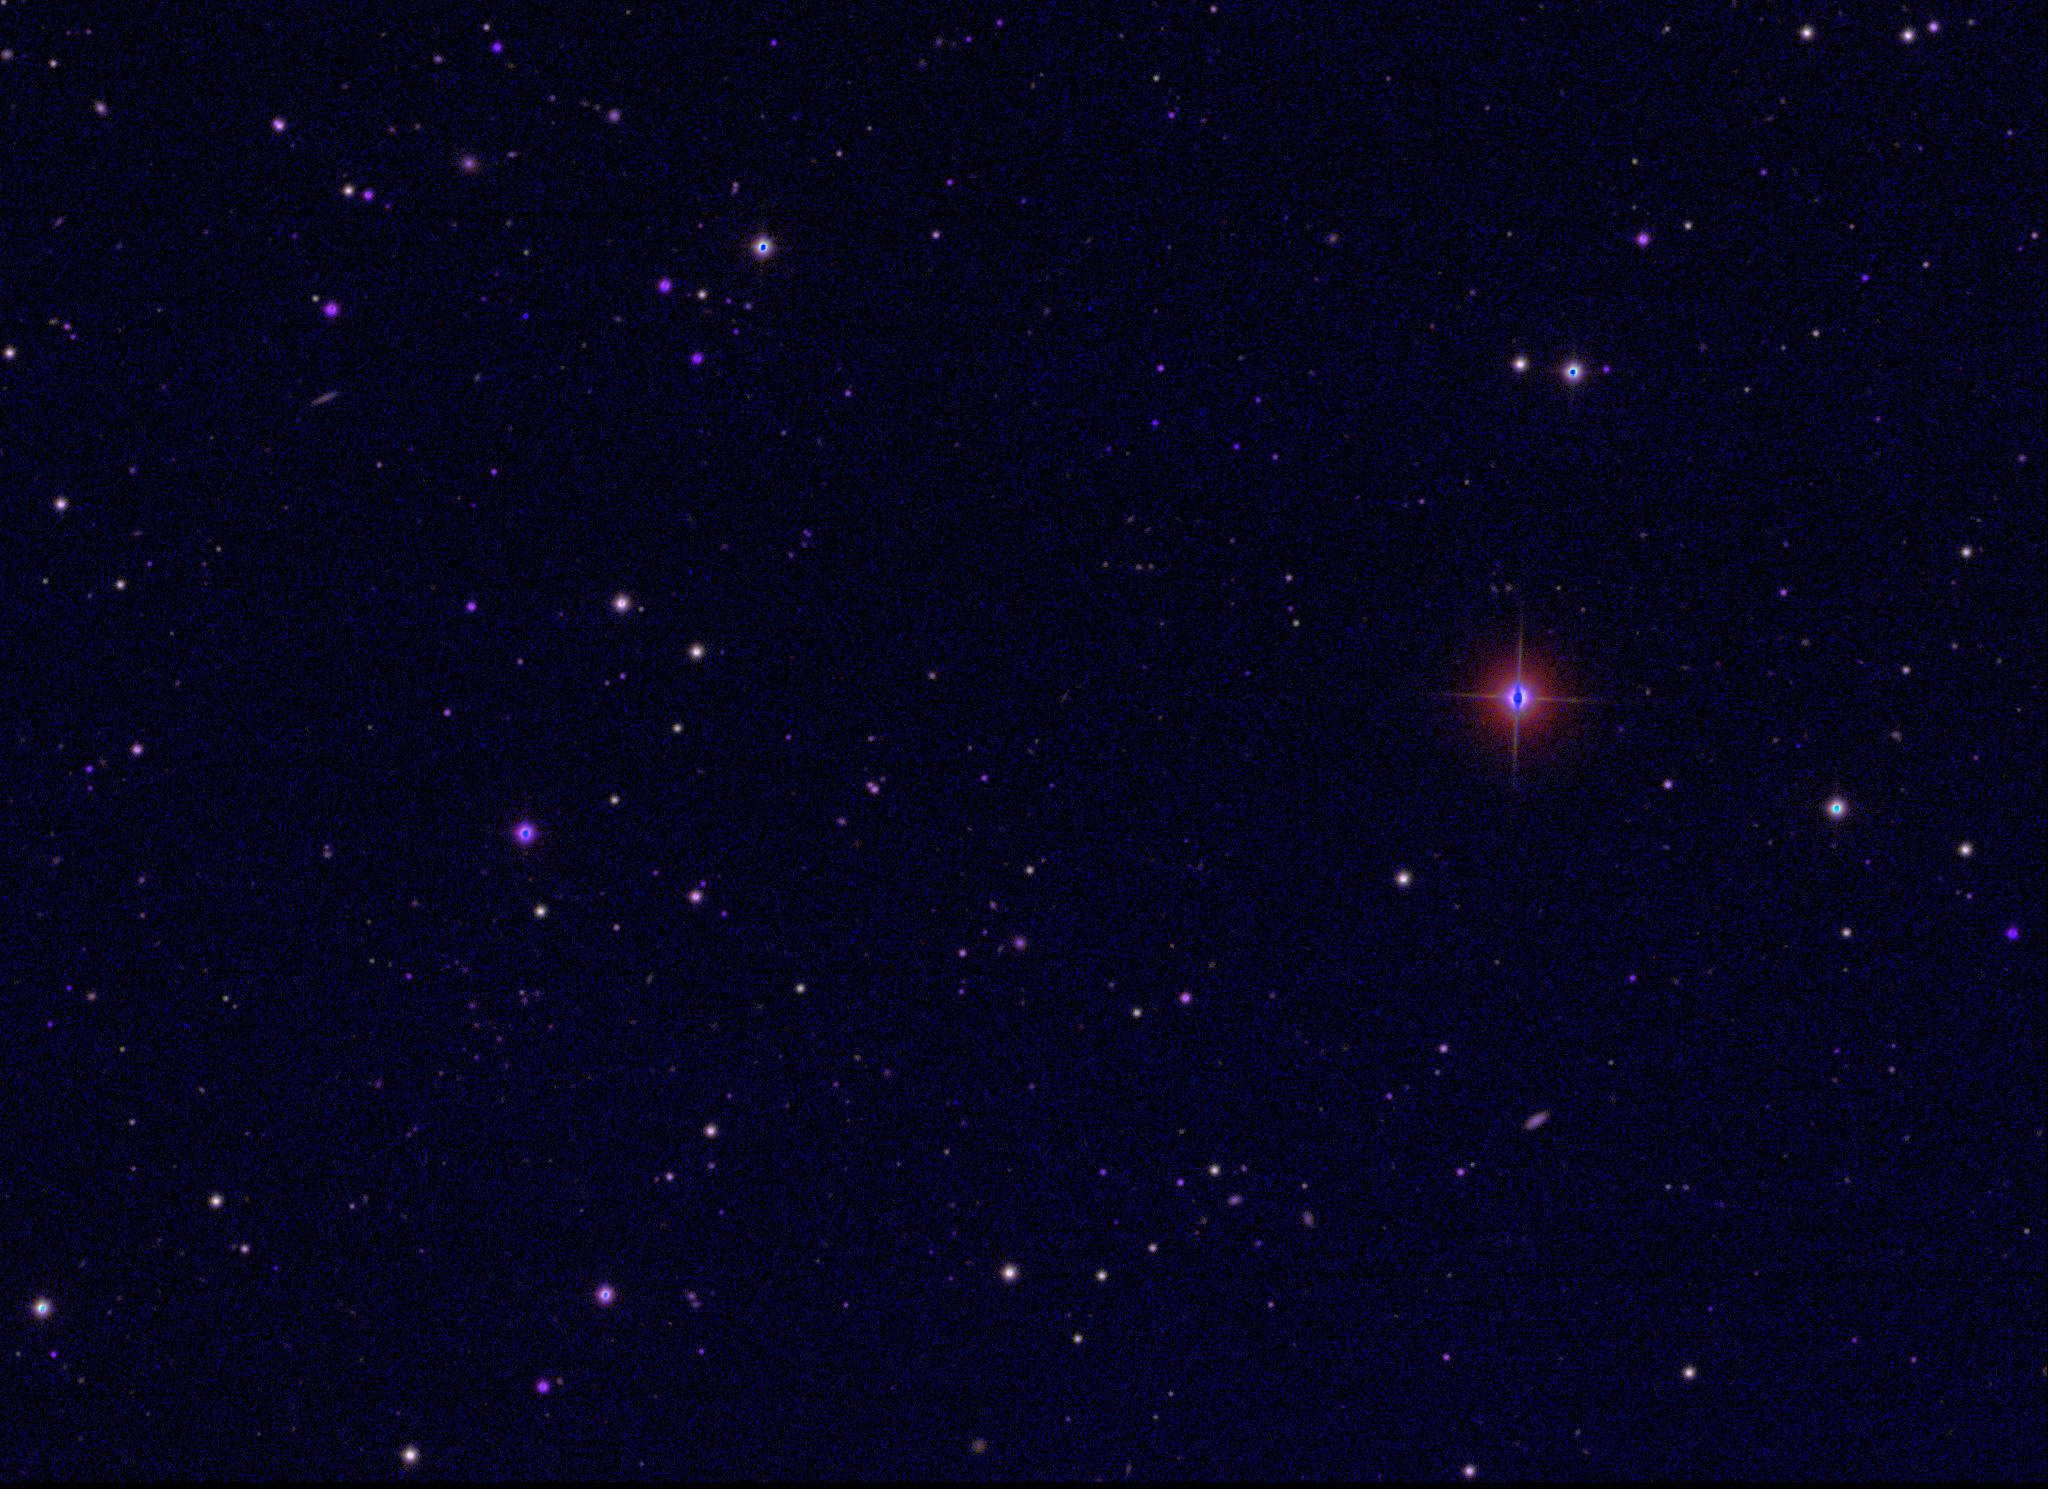L: (518, 310, 533, 325)
